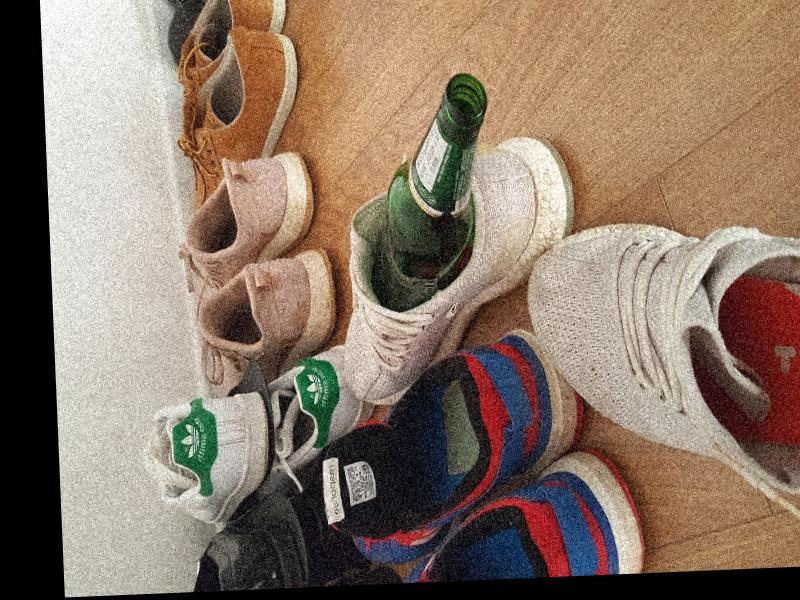Beer: (359, 72, 495, 314)
